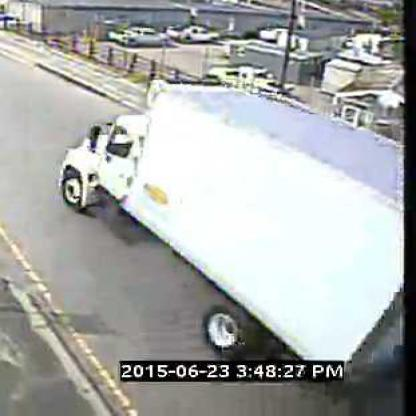truck: (60, 76, 416, 388)
